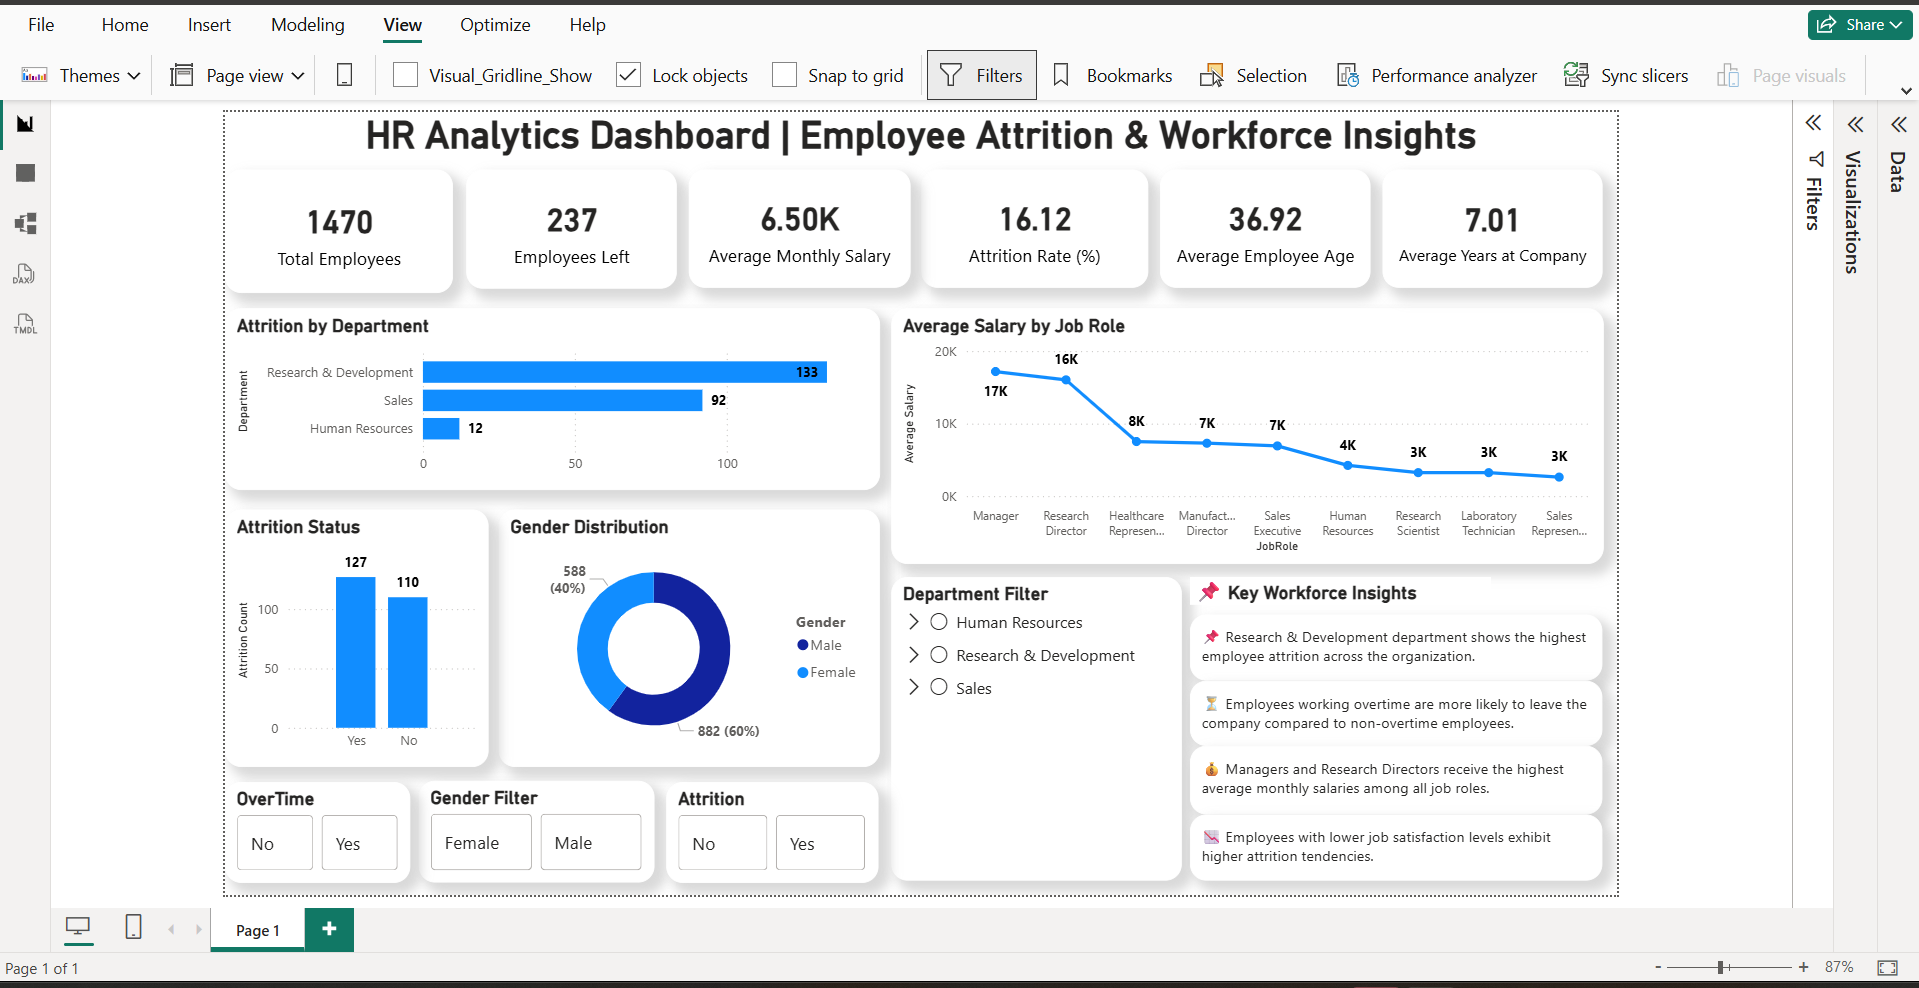

What the dashboard file says about the page in this screenshot:
{"tool":"powerbi","page":{"name":"Page 1","canvas":[1280,720],"ordinal":0},"visuals":[{"type":"card","fields":{"Values":["HR_Analysis (2).Total Employees"]},"box":[0,52.4,209.8,113.4],"z":0},{"type":"card","fields":{"Values":["HR_Analysis (2).Attrition Count"]},"box":[222,52.4,193.9,109.8],"z":1000},{"type":"card","fields":{"Values":["HR_Analysis (2).Attrition Rate"]},"box":[640.2,52.4,208.5,108.5],"z":2000},{"type":"card","fields":{"Values":["HR_Analysis (2).Average Age"]},"box":[859.8,52.4,193.9,108.5],"z":3000},{"type":"card","fields":{"Values":["HR_Analysis (2).Average Salary"]},"box":[426.8,52.4,203.7,108.5],"z":4000},{"type":"clusteredBarChart","title":"Attrition by Department","fields":{"Category":["HR_Analysis (2).Department"],"Y":["HR_Analysis (2).Attrition Count"]},"box":[0,180.9,602.4,167],"z":5000},{"type":"donutChart","title":"Gender Distribution","fields":{"Category":["HR_Analysis (2).Gender"],"Y":["CountNonNull(HR_Analysis (2).EmployeeNumber)"]},"box":[251.8,365.9,350.6,236.5],"z":6000},{"type":"columnChart","title":"Attrition Status ","fields":{"Category":["HR_Analysis (2).OverTime"],"Y":["HR_Analysis (2).Attrition Count"]},"box":[0,365.9,242.1,236.5],"z":7000},{"type":"lineChart","title":"Average Salary by Job Role","fields":{"Category":["HR_Analysis (2).JobRole"],"Y":["HR_Analysis (2).Average Salary"]},"box":[612.2,180.5,654.9,235.4],"z":8000},{"type":"advancedSlicerVisual","title":"Gender Filter","fields":{"Values":["HR_Analysis (2).Gender"]},"box":[178,614.6,217.1,93.9],"z":9000},{"type":"listSlicer","title":"Department Filter","fields":{"Values":["HR_Analysis (2).Department","HR_Analysis (2).JobRole"]},"box":[612.2,428,267.1,279.3],"z":10000},{"type":"advancedSlicerVisual","fields":{"Values":["HR_Analysis (2).OverTime"]},"box":[0,615.9,170.7,92.7],"z":11000},{"type":"textbox","title":"HR Analytics Dashboard | Employee Attrition & Workforce Insights","box":[0,0,1280.3,43.9],"z":12000},{"type":"textbox","box":[887.8,462.2,379.3,61],"z":13000},{"type":"textbox","box":[887.8,523.2,379.3,59.8],"z":14000},{"type":"textbox","box":[887.8,582.9,379.3,63.4],"z":15000},{"type":"textbox","box":[887.8,646.3,379.3,61],"z":16000},{"type":"textbox","title":"📌 Key Workforce Insights","box":[887.8,428,276.8,25.6],"z":17000},{"type":"card","fields":{"Values":["HR_Analysis (2).Avg Years at Company"]},"box":[1064.6,52.4,202.4,108.5],"z":18000},{"type":"advancedSlicerVisual","fields":{"Values":["HR_Analysis (2).Attrition"]},"box":[406.1,615.9,195.1,92.7],"z":19000}]}

Visuals, with their boxes on the page's 1280x720 design canvas (x1, y1, x2, y2). These are canvas units, not pixel positions in the 1919x988 screenshot, which may show the page scaled, cropped or inside an application window:
card - HR_Analysis (2).Total Employees: {"x1": 0, "y1": 52, "x2": 210, "y2": 166}
card - HR_Analysis (2).Attrition Count: {"x1": 222, "y1": 52, "x2": 416, "y2": 162}
card - HR_Analysis (2).Attrition Rate: {"x1": 640, "y1": 52, "x2": 849, "y2": 161}
card - HR_Analysis (2).Average Age: {"x1": 860, "y1": 52, "x2": 1054, "y2": 161}
card - HR_Analysis (2).Average Salary: {"x1": 427, "y1": 52, "x2": 630, "y2": 161}
"Attrition by Department" clusteredBarChart: {"x1": 0, "y1": 181, "x2": 602, "y2": 348}
"Gender Distribution" donutChart: {"x1": 252, "y1": 366, "x2": 602, "y2": 602}
"Attrition Status " columnChart: {"x1": 0, "y1": 366, "x2": 242, "y2": 602}
"Average Salary by Job Role" lineChart: {"x1": 612, "y1": 180, "x2": 1267, "y2": 416}
"Gender Filter" advancedSlicerVisual: {"x1": 178, "y1": 615, "x2": 395, "y2": 708}
"Department Filter" listSlicer: {"x1": 612, "y1": 428, "x2": 879, "y2": 707}
advancedSlicerVisual - HR_Analysis (2).OverTime: {"x1": 0, "y1": 616, "x2": 171, "y2": 709}
"HR Analytics Dashboard | Employee Attrition & Workforce Insights" textbox: {"x1": 0, "y1": 0, "x2": 1280, "y2": 44}
textbox: {"x1": 888, "y1": 462, "x2": 1267, "y2": 523}
textbox: {"x1": 888, "y1": 523, "x2": 1267, "y2": 583}
textbox: {"x1": 888, "y1": 583, "x2": 1267, "y2": 646}
textbox: {"x1": 888, "y1": 646, "x2": 1267, "y2": 707}
"📌 Key Workforce Insights" textbox: {"x1": 888, "y1": 428, "x2": 1165, "y2": 454}
card - HR_Analysis (2).Avg Years at Company: {"x1": 1065, "y1": 52, "x2": 1267, "y2": 161}
advancedSlicerVisual - HR_Analysis (2).Attrition: {"x1": 406, "y1": 616, "x2": 601, "y2": 709}
